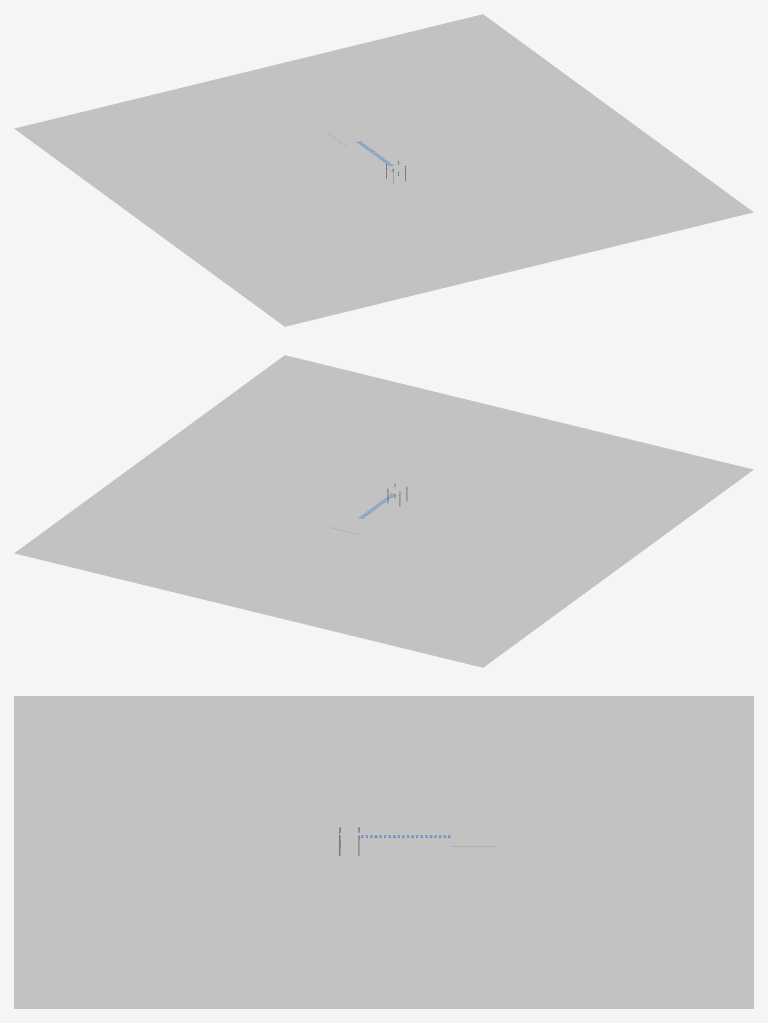
3 renders of one model, top to bottom at view 1: azimuth 30°, elevation 25°; view 2: azimuth 150°, elevation 25°; view 3: azimuth 270°, elevation 25°, orthographic. The views are drawn at different scales.
Parts seen in each view (by area): view 1: Plane.001; view 2: Plane.001; view 3: Plane.001, Plane.065.
Boxes of the visible parts, <box> form: Plane.001: <box>14,14,753,326</box>; Plane.001: <box>14,355,753,667</box>; Plane.001: <box>14,696,753,1008</box>; Plane.065: <box>451,827,496,846</box>.
Bounding box in the file's own units: 1327 × 41.9 × 1327.
13 materials, 8 textured.
